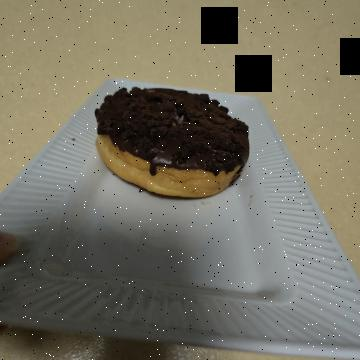doughnut: (82, 102, 225, 280)
